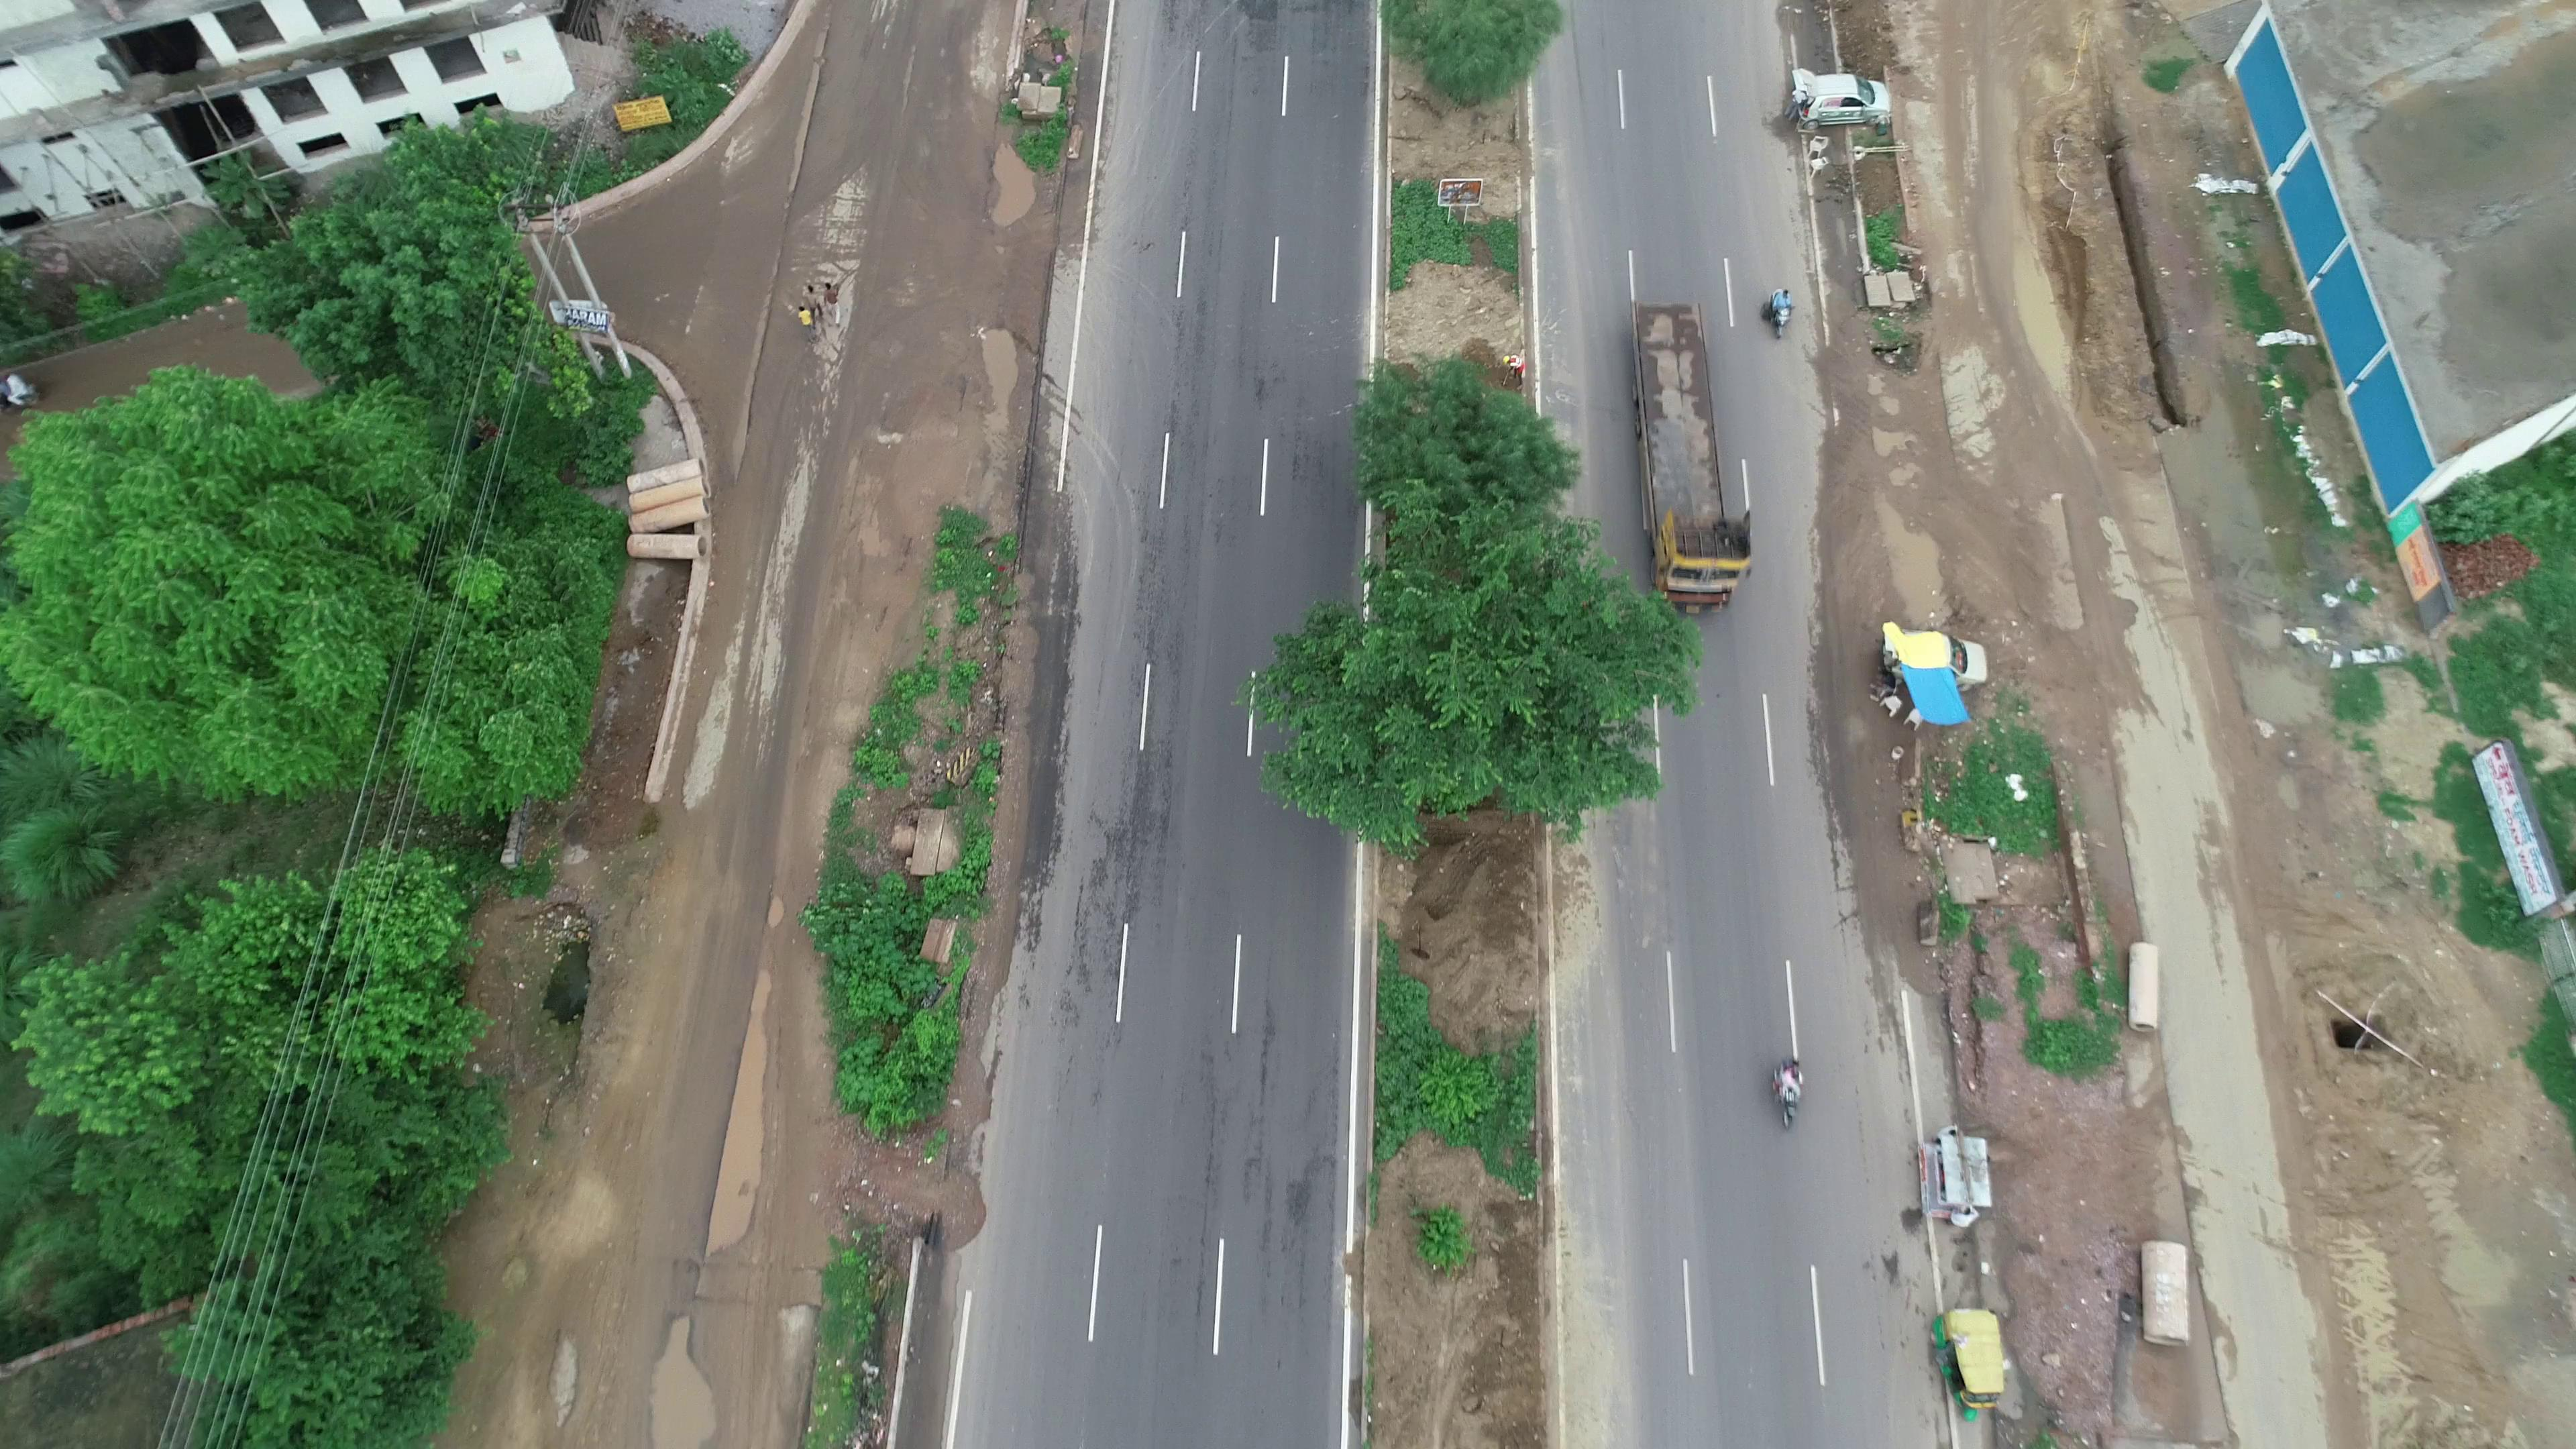Muddy_road: (2288, 1116, 2470, 1444), (2006, 115, 2111, 403), (1819, 403, 1900, 616)
Potholes: (973, 131, 1040, 241), (754, 874, 801, 939)
Waterlogging: (686, 957, 794, 1263)
